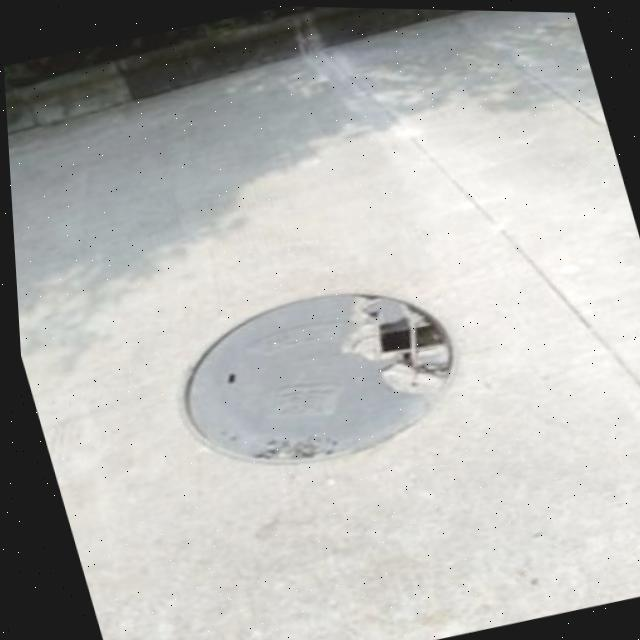manhole: (140, 257, 485, 492)
